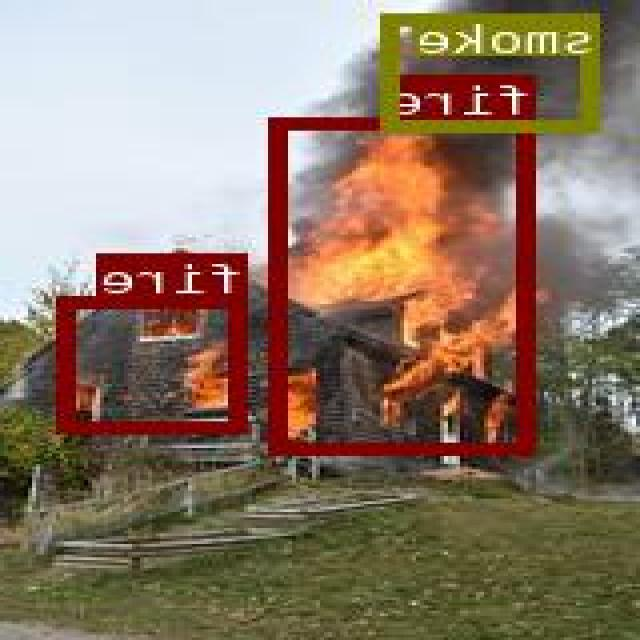fire: (273, 115, 540, 453), (62, 296, 250, 430)
smoke: (387, 11, 603, 129)
